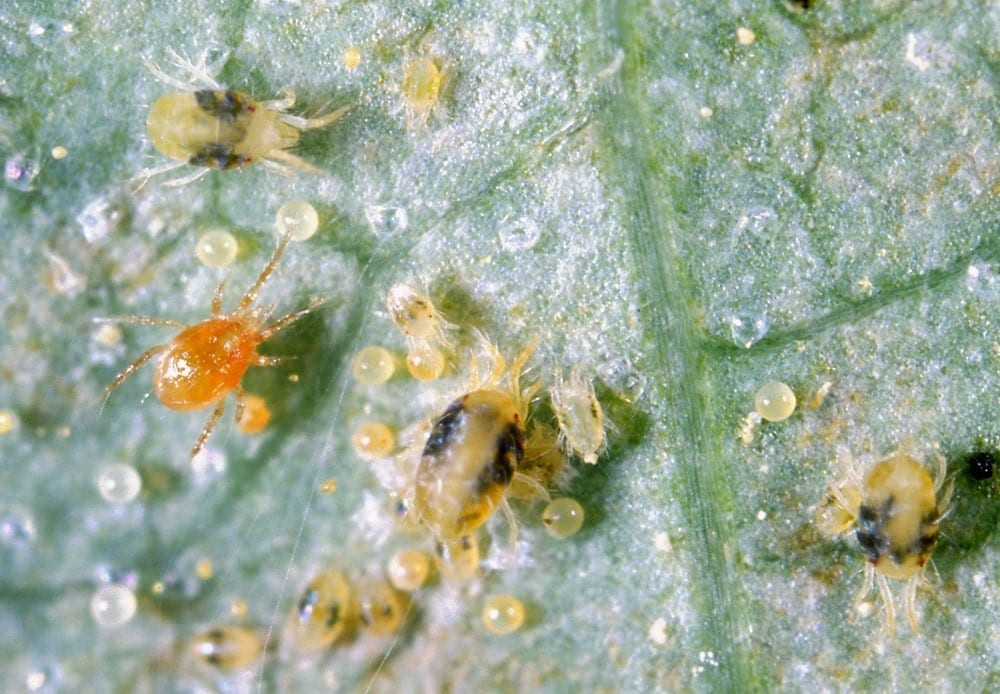Aracnido Rojo: (84, 240, 336, 453), (810, 415, 969, 659), (114, 41, 342, 192), (395, 350, 553, 555), (537, 347, 614, 479), (367, 263, 462, 347), (389, 43, 464, 148)
